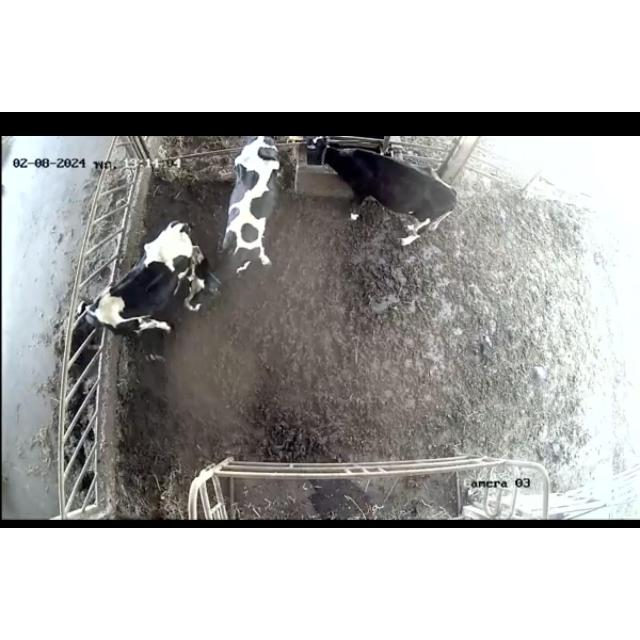drink: (303, 136, 363, 174)
eat: (56, 288, 130, 342)
stand: (201, 134, 289, 306)
